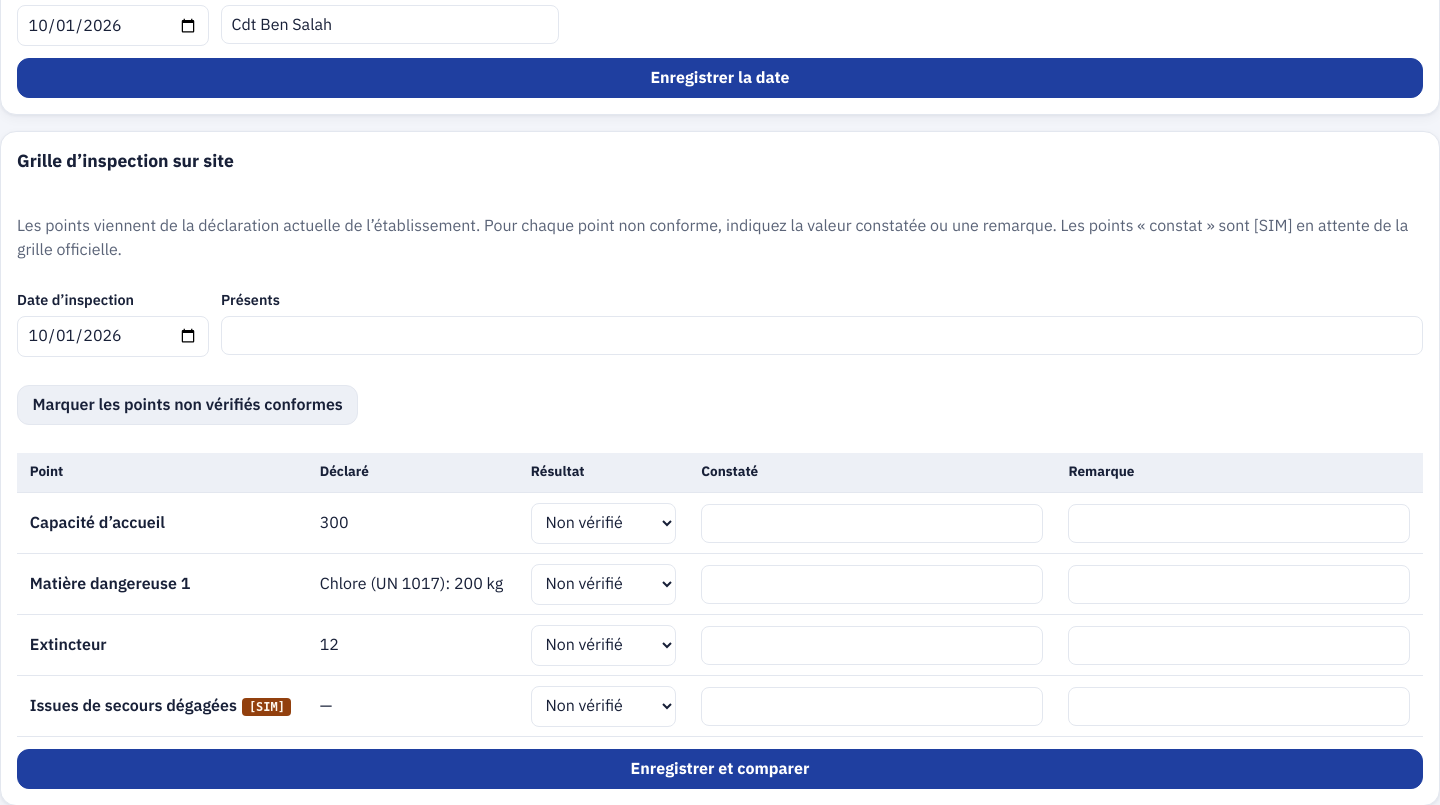
VisitPage › records the inspection grid and asks for a detail on each non-conformity
The image size is (1440, 805).
(page scrolled)
Expected: the column heading "Issues de secours dégagées [SIM]" is shown, [17,676,307,737]
Expected: the row "Matière dangereuse 1 Chlore (UN 1017): 200 kg" is shown, [17,554,1423,615]
Click the button "Marquer les points non vérifiés conformes" at (188,405), box [17,385,358,425]
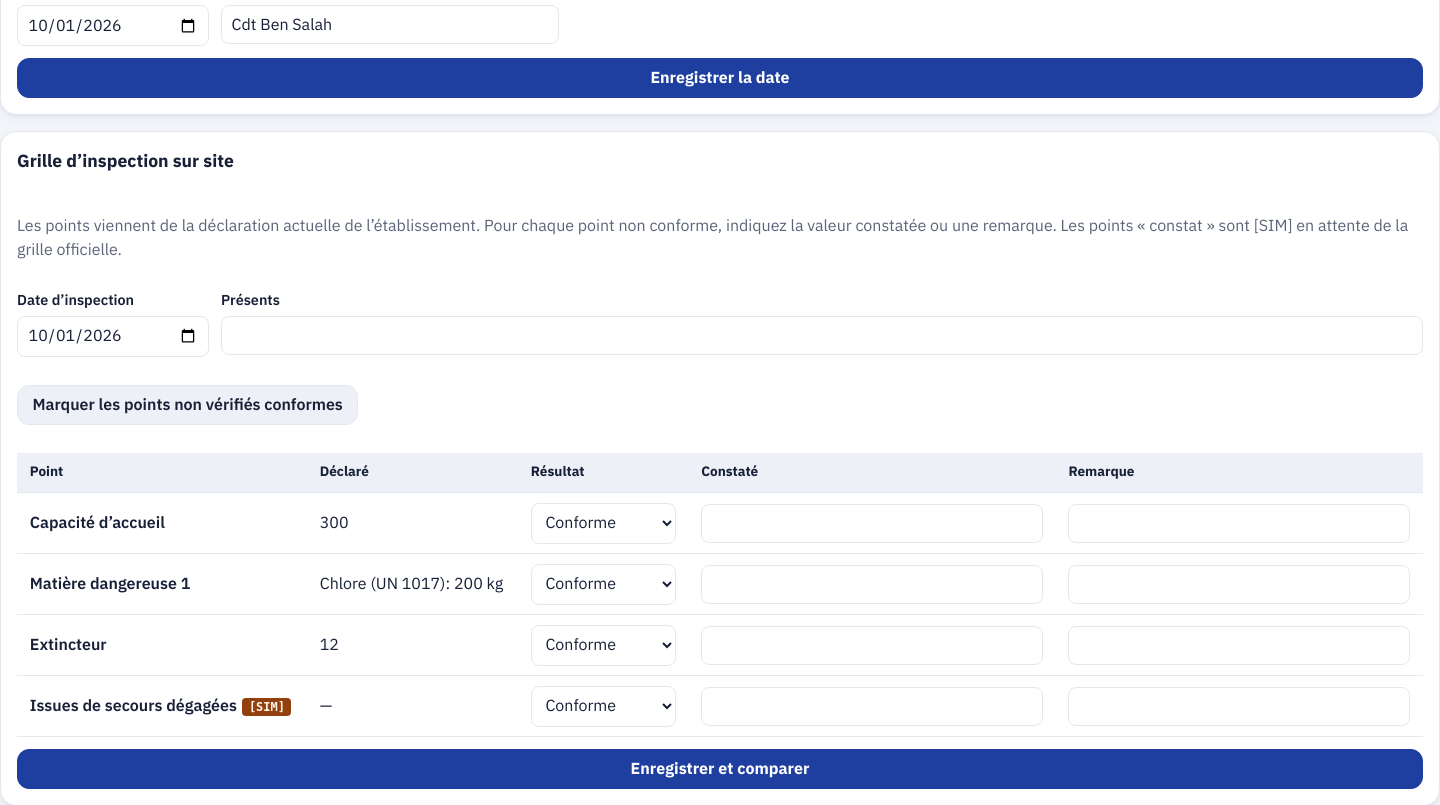
Select "Non conforme" in the dropdown named "Résultat : Issues de secours dégagées" at (603,706), box [531,686,676,727]
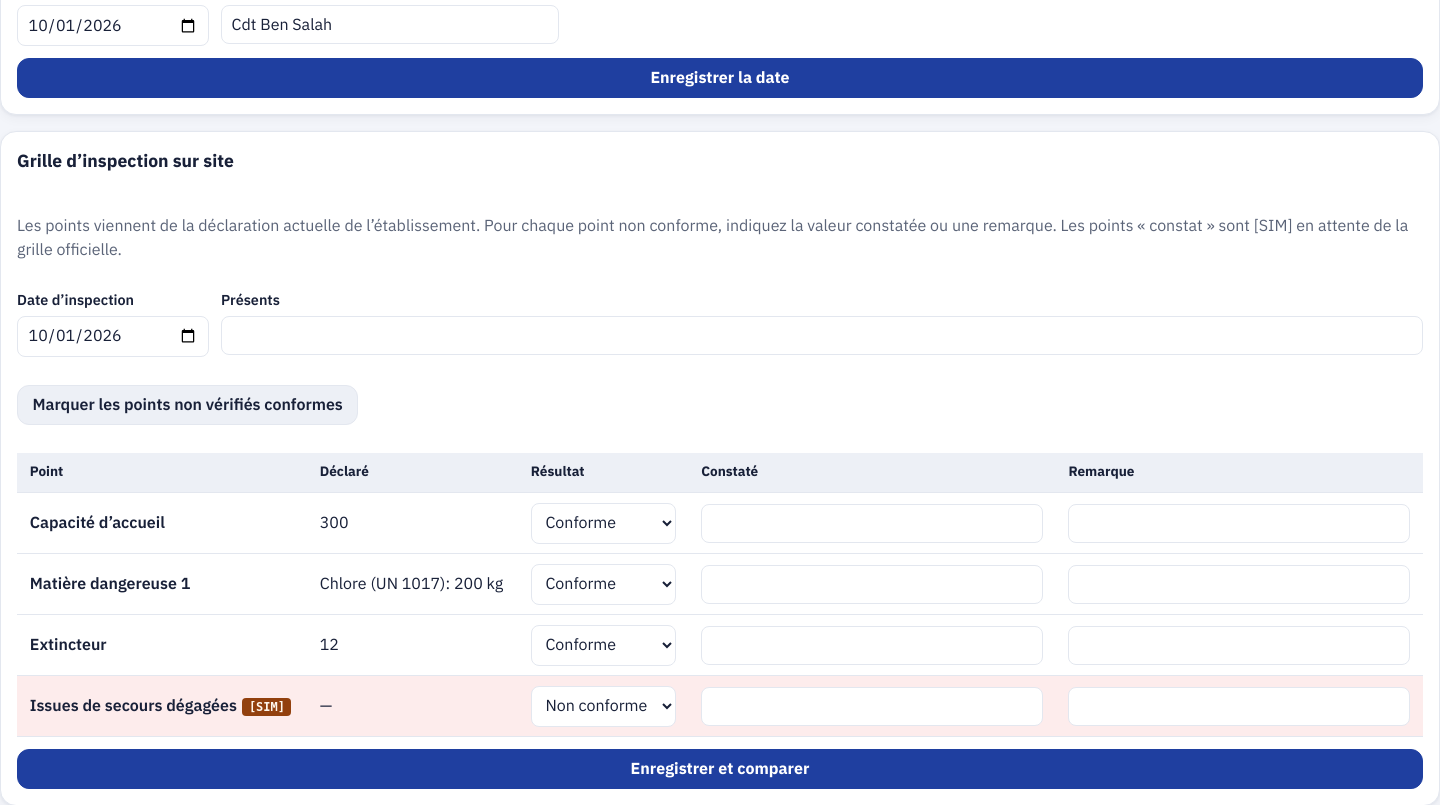
Click the button "Enregistrer et comparer" at (720,769), box [17,749,1423,789]
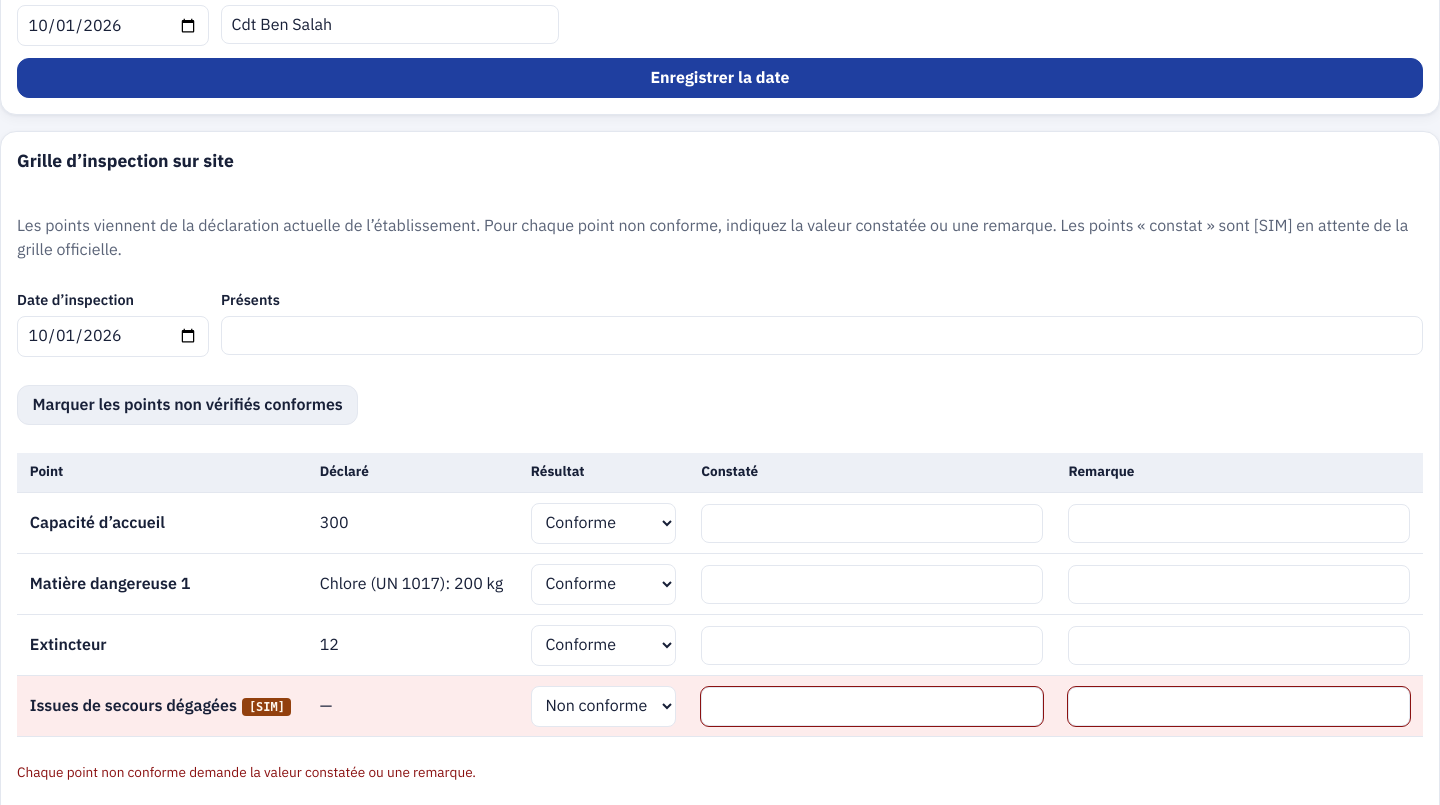
Expected: the text "Chaque point non conforme" is shown, [17,762,476,783]
Type "Issue B encombrée" into the field named "Remarque : Issues de secours dégagées" at (1239,706), box [1068,687,1410,726]
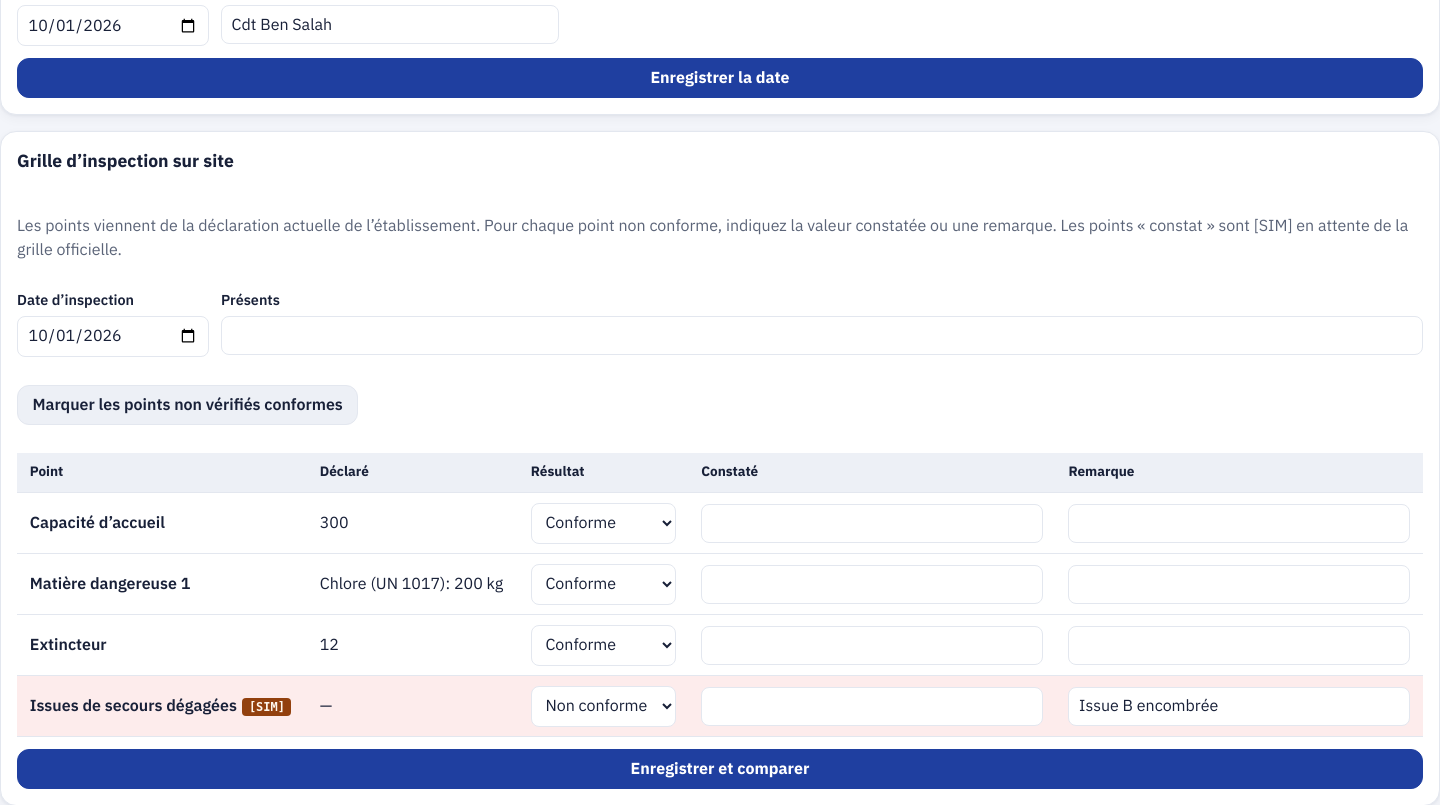
Type "Directeur" into the field labelled "Présents" at (822,335), box [221,316,1423,355]
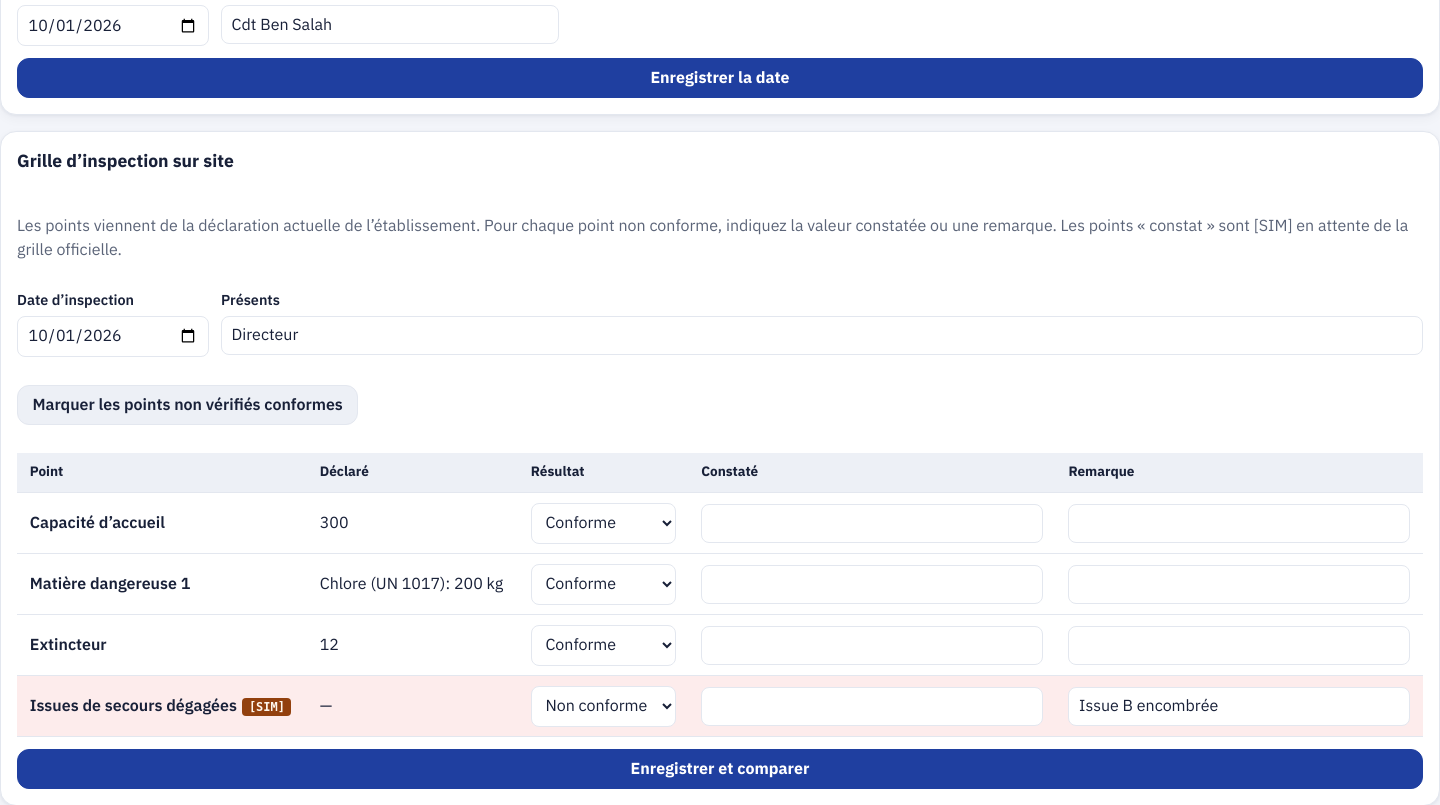
Click the button "Enregistrer et comparer" at (720,769), box [17,749,1423,789]
(page scrolled)
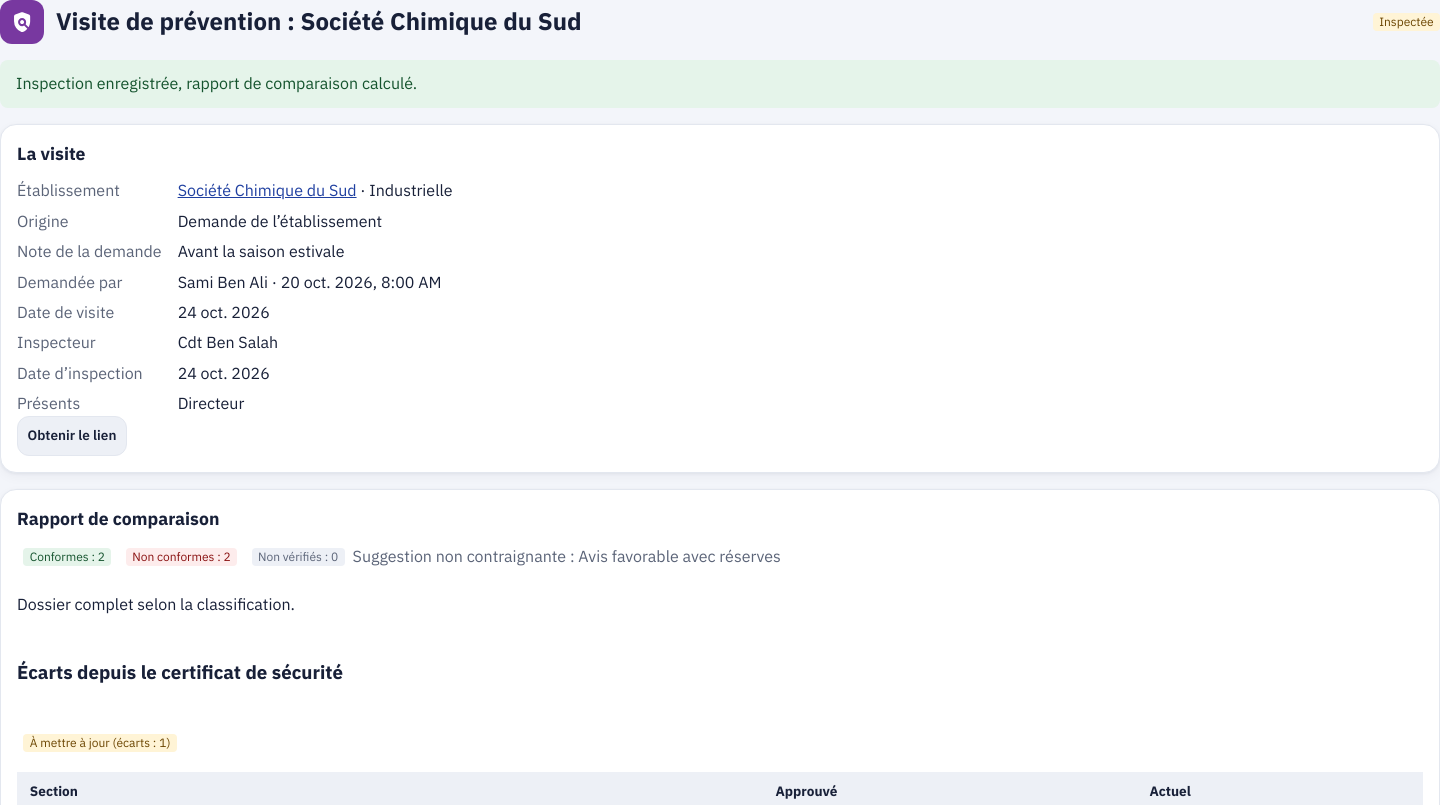
Expected: the text "Directeur" is shown, [178,392,244,416]
